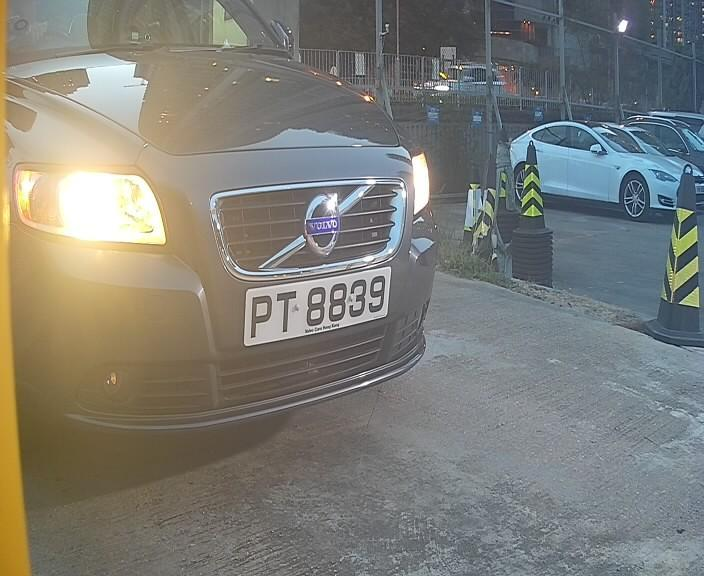License Plate: (239, 263, 393, 345)
